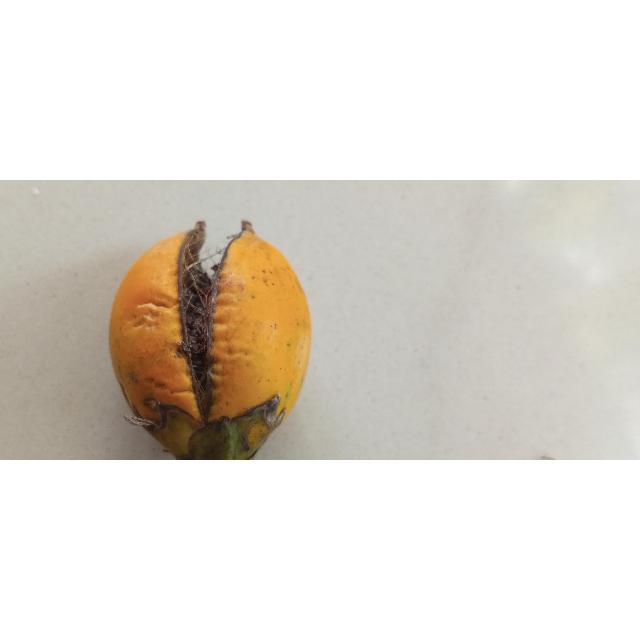damaged: (109, 221, 313, 461)
